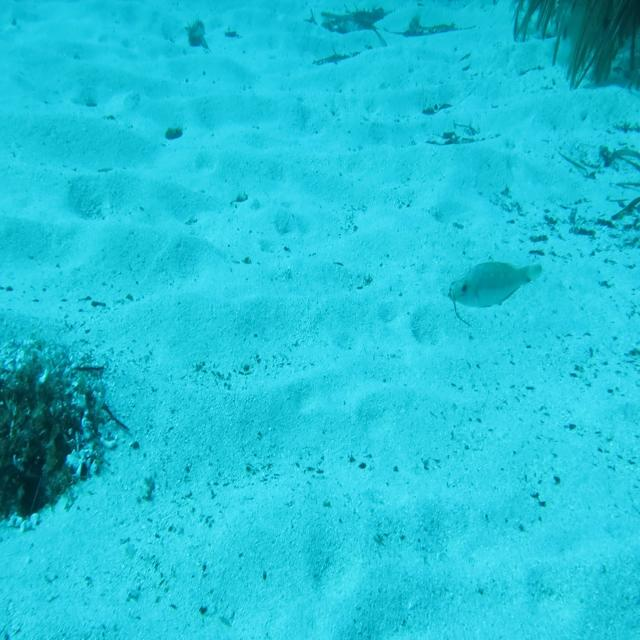AM: (448, 258, 545, 312)
nest: (0, 334, 117, 532)
vegetation: (515, 0, 640, 91), (445, 282, 474, 330)
